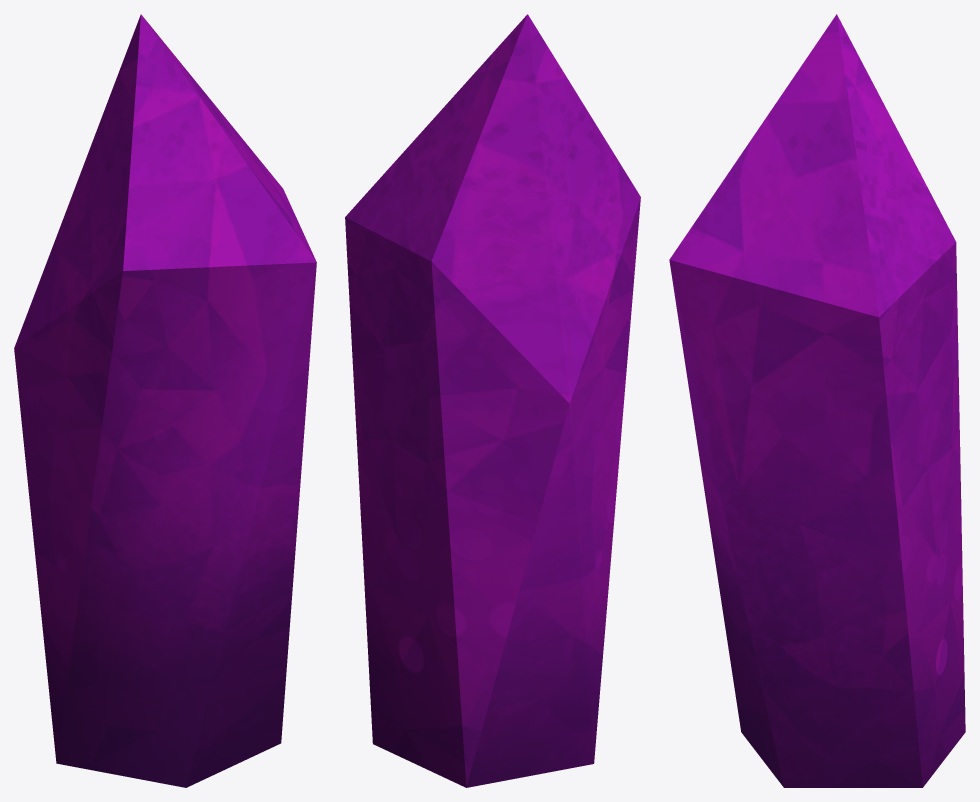
The model's file is P_CRYSTAL FRAGMENT 1.fbx.
The picture shows the model from 3 angles, left to right: view 1: azimuth 30°, elevation 25°; view 2: azimuth 150°, elevation 25°; view 3: azimuth 270°, elevation 25°; orthographic projection. The views are drawn at different scales.
Parts seen in each view (by area): view 1: Crystal Fragment_1; view 2: Crystal Fragment_1; view 3: Crystal Fragment_1.
Boxes of the visible parts, x1,y1,x2,y2 form: Crystal Fragment_1: (14, 14, 316, 787); Crystal Fragment_1: (345, 14, 640, 787); Crystal Fragment_1: (669, 14, 965, 787).
Bounding box in the file's own units: 126 × 357 × 133.
